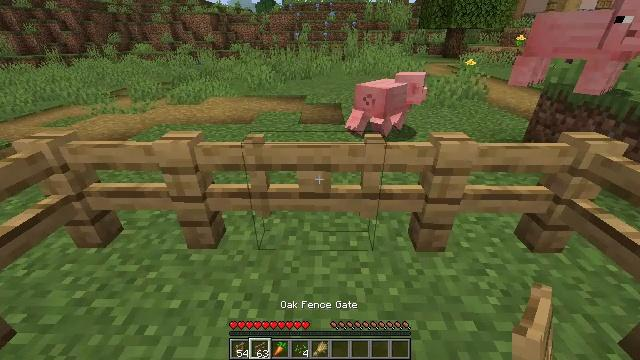pig: (509, 0, 639, 96), (346, 73, 426, 136)
